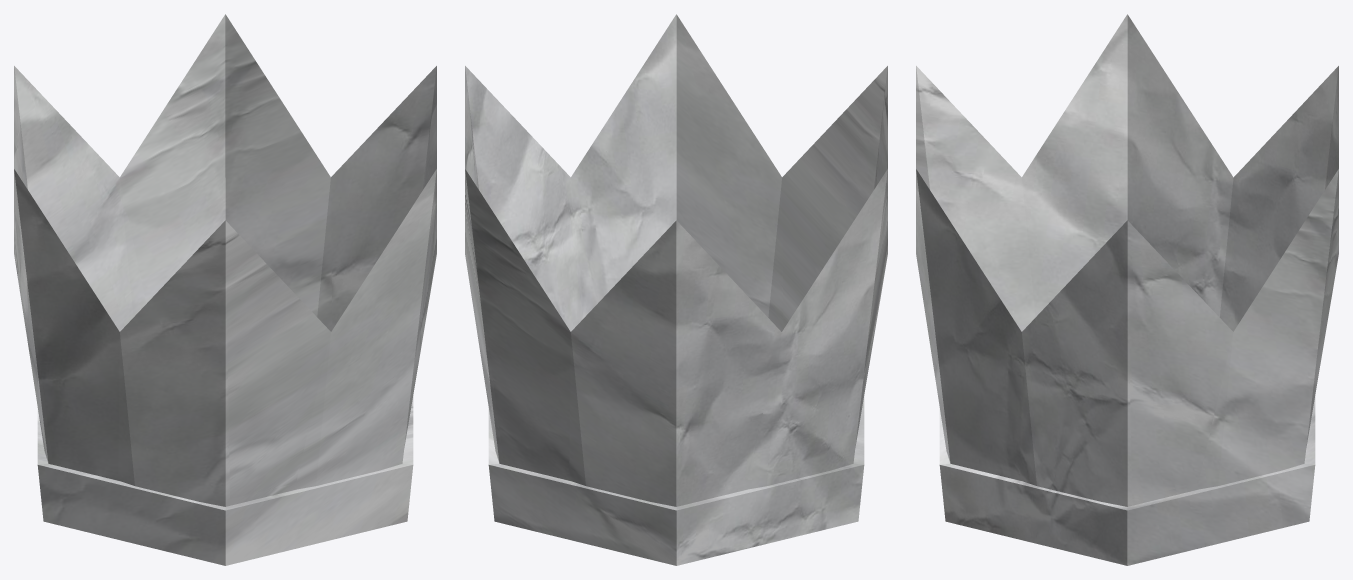
The model's file is PaperCrown.fbx.
3 renders of one model, left to right at view 1: azimuth 30°, elevation 25°; view 2: azimuth 150°, elevation 25°; view 3: azimuth 270°, elevation 25°, orthographic.
Parts seen in each view (by area): view 1: Torus; view 2: Torus; view 3: Torus.
Boxes of the visible parts, <box> form: Torus: <box>14,14,436,565</box>; Torus: <box>465,14,887,565</box>; Torus: <box>916,14,1338,565</box>.
Bounding box in the file's own units: 184 × 150 × 160.
1 material, 1 textured.
